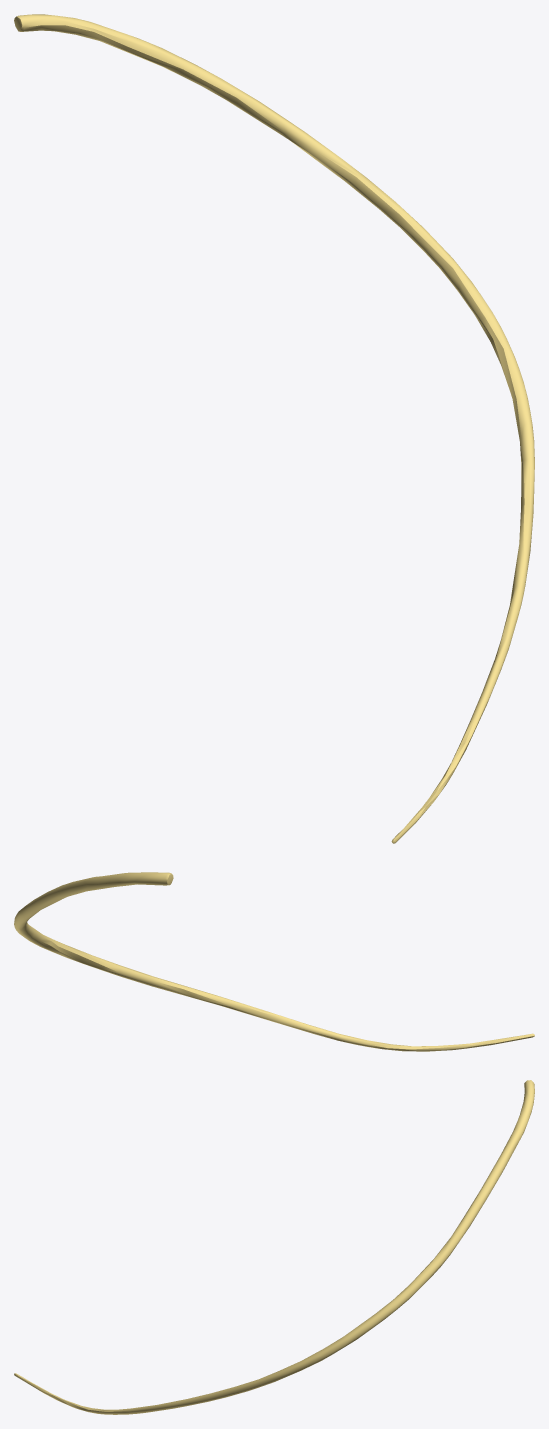
Rendered from fma85332_fj4174.glb.
3 views of the same model, one above another, from view 1: azimuth 30°, elevation 25°; view 2: azimuth 150°, elevation 25°; view 3: azimuth 270°, elevation 25° (orthographic). The views are drawn at different scales.
Visible parts, largest first — view 1: FMA85332_FJ4174; view 2: FMA85332_FJ4174; view 3: FMA85332_FJ4174.
Boxes of the visible parts, box(x1,y1,x2,y2) form: FMA85332_FJ4174: box(14, 14, 534, 843); FMA85332_FJ4174: box(14, 872, 534, 1051); FMA85332_FJ4174: box(14, 1080, 534, 1414).
Size of the model in its own units: 0.0499 by 0.0655 by 0.0985.
